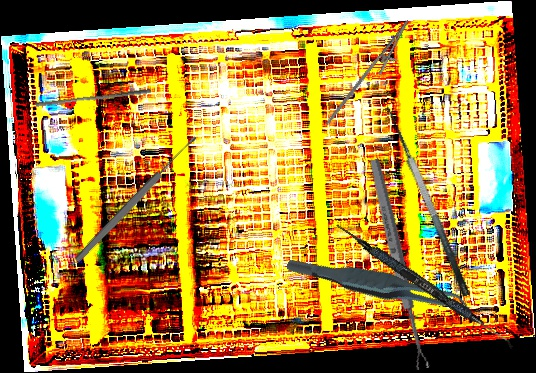Needle Holder: (324, 11, 419, 139)
Pusher: (35, 83, 151, 112)
Spatula Surgical: (331, 221, 519, 350), (372, 103, 472, 304)
Surgical Spoon: (72, 133, 200, 265), (367, 158, 430, 371)
Tissue Forceps: (284, 221, 475, 351)
